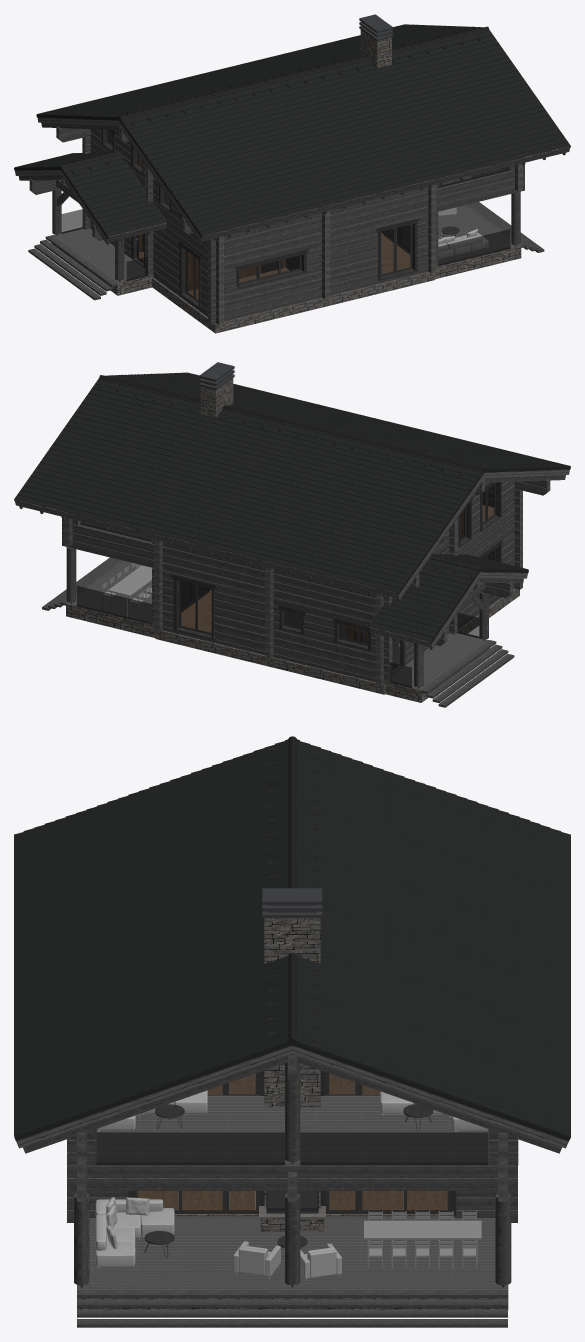
The model's file is house-transformed.glb.
The picture shows the model from 3 angles, top to bottom: view 1: azimuth 30°, elevation 25°; view 2: azimuth 150°, elevation 25°; view 3: azimuth 270°, elevation 25°; orthographic projection. The views are drawn at different scales.
Parts seen in each view (by area): view 1: Material12 (×15), Material13 (×3), Material5, Material28, Material11, Material8, Material26, Material14, Material1, Material34 (×2), Material24, Material17 (+4 smaller); view 2: Material12 (×15), Material13 (×3), Material5, Material28, Material11, Material8, Material26, Material14, Material1, Material34 (×2), Material38, Material17 (+3 smaller); view 3: Material12 (×15), Material11, Material13 (×3), Material28, Material5, Material1, Material45 (×3), Material17, Material8, Material38, Material36, Material34 (×2) (+4 smaller).
Part boxes in pixels (<box>): Material12 (×15): <box>14,24,570,281</box>; Material13 (×3): <box>18,122,565,324</box>; Material5: <box>52,30,521,333</box>; Material28: <box>61,131,510,299</box>; Material11: <box>52,168,520,283</box>; Material8: <box>15,117,570,242</box>; Material26: <box>101,129,459,309</box>; Material14: <box>29,126,522,325</box>; Material1: <box>52,189,520,280</box>; Material34 (×2): <box>118,26,488,118</box>; Material24: <box>107,130,412,301</box>; Material17: <box>136,233,409,299</box>; Material12 (×15): <box>14,372,570,688</box>; Material13 (×3): <box>19,475,565,707</box>; Material5: <box>66,378,519,702</box>; Material28: <box>77,484,494,686</box>; Material11: <box>66,522,489,690</box>; Material8: <box>14,469,569,647</box>; Material26: <box>171,482,502,665</box>; Material14: <box>64,479,550,686</box>; Material1: <box>66,547,488,687</box>; Material34 (×2): <box>99,375,485,471</box>; Material38: <box>102,563,151,611</box>; Material17: <box>181,505,493,670</box>; Material12 (×15): <box>14,739,570,1287</box>; Material11: <box>77,1095,508,1289</box>; Material13 (×3): <box>23,1053,561,1327</box>; Material28: <box>96,1074,488,1211</box>; Material5: <box>77,918,508,1309</box>; Material1: <box>74,1062,511,1285</box>; Material45 (×3): <box>95,1090,488,1267</box>; Material17: <box>137,1074,447,1214</box>; Material8: <box>16,1045,568,1148</box>; Material38: <box>364,1211,481,1269</box>; Material36: <box>155,888,433,1131</box>; Material34 (×2): <box>288,736,296,1042</box>.
Size of what is drawn, in the model's own units: 20.59 by 10.33 by 14.93.
Materials: 29 (15 with a texture image).
